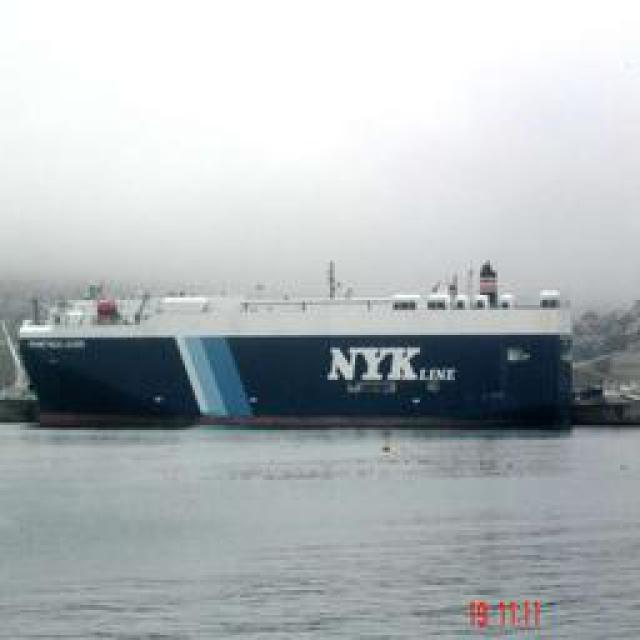Ship: (10, 276, 578, 426)
